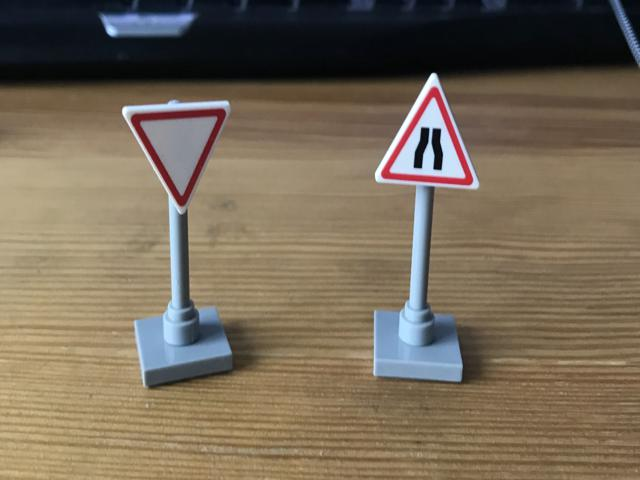verengte fahrbahn: (370, 74, 488, 189)
vorfahrt gewähren: (119, 99, 230, 210)
